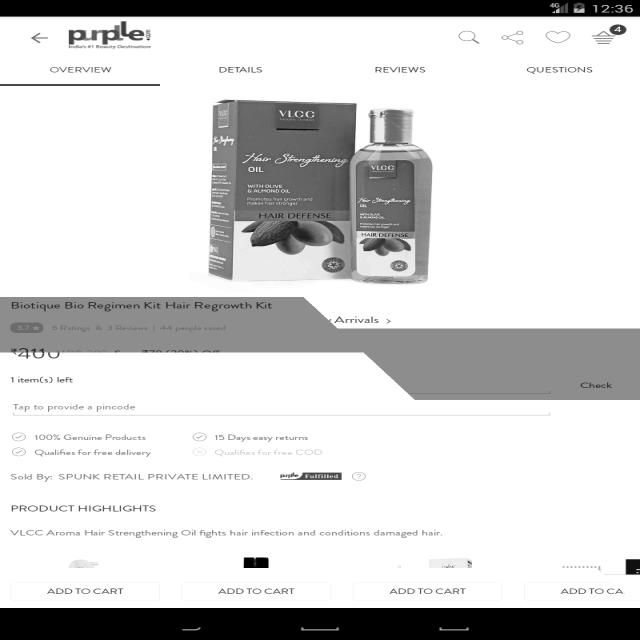ImageButton: (492, 23, 530, 47), (450, 22, 483, 49), (590, 26, 628, 49), (22, 24, 52, 48), (542, 28, 578, 48)
ImageView: (188, 98, 454, 286), (58, 23, 167, 49), (230, 551, 288, 571), (420, 555, 482, 573), (60, 555, 120, 571), (616, 554, 638, 578)
TextView: (3, 524, 455, 540), (4, 468, 260, 482), (3, 502, 173, 514), (39, 580, 130, 598), (518, 60, 596, 76), (381, 585, 469, 599), (370, 59, 436, 75), (209, 60, 274, 74)
